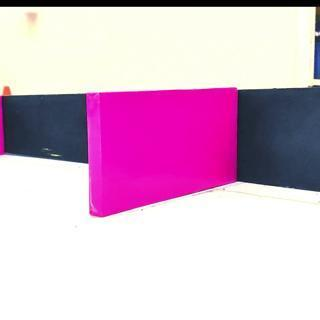xparking: (85, 92, 238, 193)
